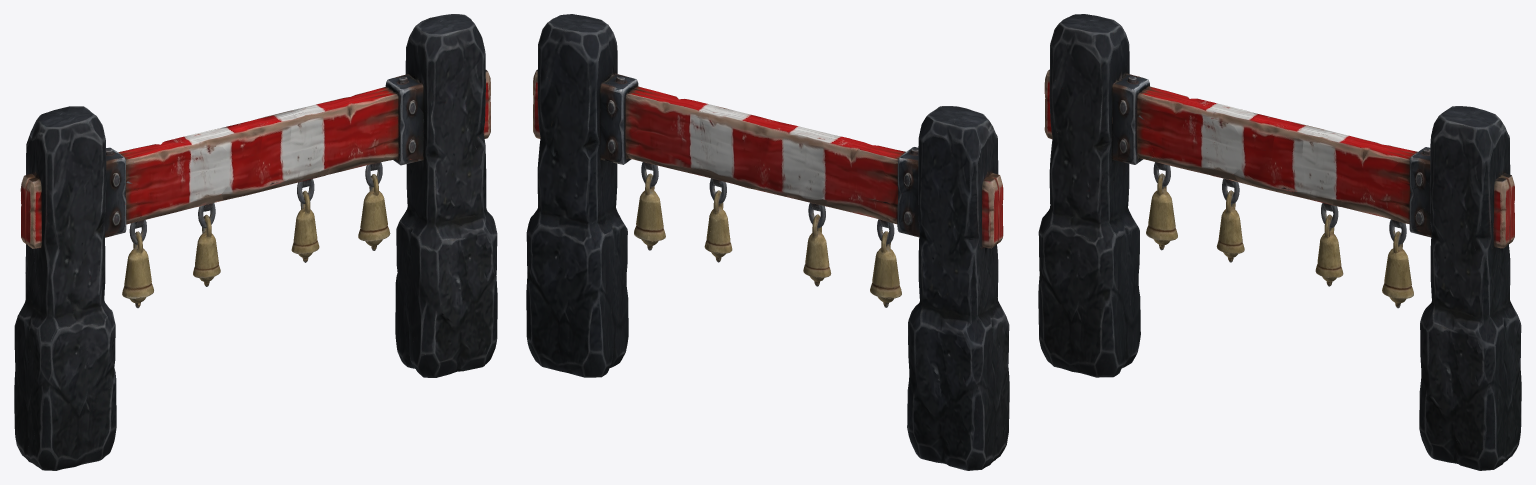
The model's file is SlideBar.fbx.
3 renders of one model, left to right at view 1: azimuth 30°, elevation 25°; view 2: azimuth 150°, elevation 25°; view 3: azimuth 330°, elevation 25°, orthographic.
Parts seen in each view (by area): view 1: SlideBar; view 2: SlideBar; view 3: SlideBar.
Part boxes in pixels (bbox=[...]): SlideBar: bbox=[14, 14, 497, 470]; SlideBar: bbox=[526, 14, 1009, 470]; SlideBar: bbox=[1038, 14, 1521, 470].
Bounding box in the file's own units: 2.44 × 1.72 × 0.32.
1 material, 1 textured.
